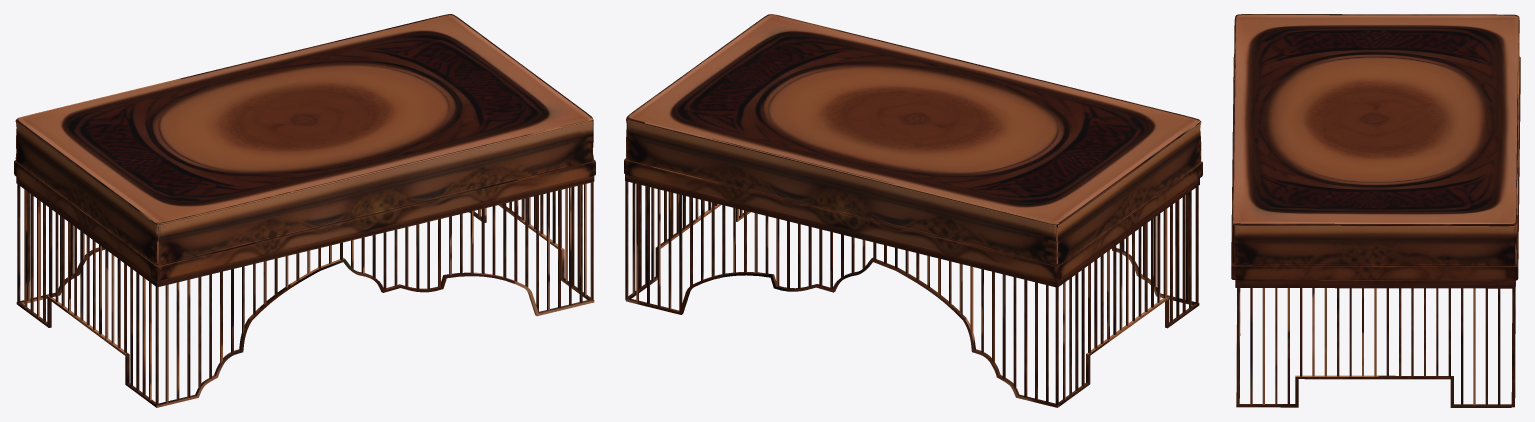
The model's file is edited_mesh.glb.
The picture shows the model from 3 angles, left to right: view 1: azimuth 30°, elevation 25°; view 2: azimuth 150°, elevation 25°; view 3: azimuth 270°, elevation 25°; orthographic projection.
Visible parts, largest first — view 1: solid_001_wire; view 2: solid_001_wire; view 3: solid_001_wire.
Part boxes in pixels (x1,y1,x2,y2): solid_001_wire: (14,14,595,407); solid_001_wire: (624,14,1202,407); solid_001_wire: (1231,14,1520,407).
Size of the model in its own units: 2 by 0.8071 by 1.16.
Materials: 1 (1 with a texture image).
